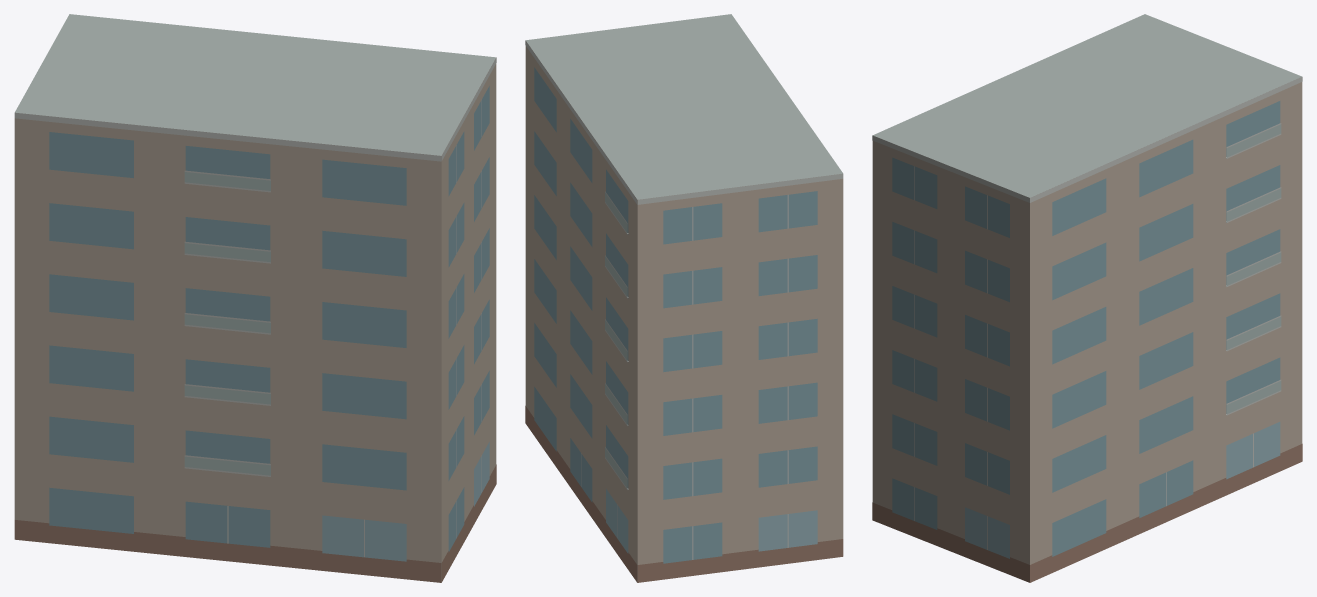
File: survey-upis-32518213.glb
3 views of the same model, side by side, from view 1: azimuth 30°, elevation 25°; view 2: azimuth 150°, elevation 25°; view 3: azimuth 270°, elevation 25° (orthographic). The views are drawn at different scales.
Parts seen in each view (by area): view 1: survey-upis-32518213.tmp; view 2: survey-upis-32518213.tmp; view 3: survey-upis-32518213.tmp.
Boxes of the visible parts, box(x1,y1,x2,y2) form: survey-upis-32518213.tmp: box(14, 14, 496, 582); survey-upis-32518213.tmp: box(525, 14, 843, 582); survey-upis-32518213.tmp: box(872, 14, 1302, 582).
Bounding box in the file's own units: 18.76 × 18.3 × 18.53.
